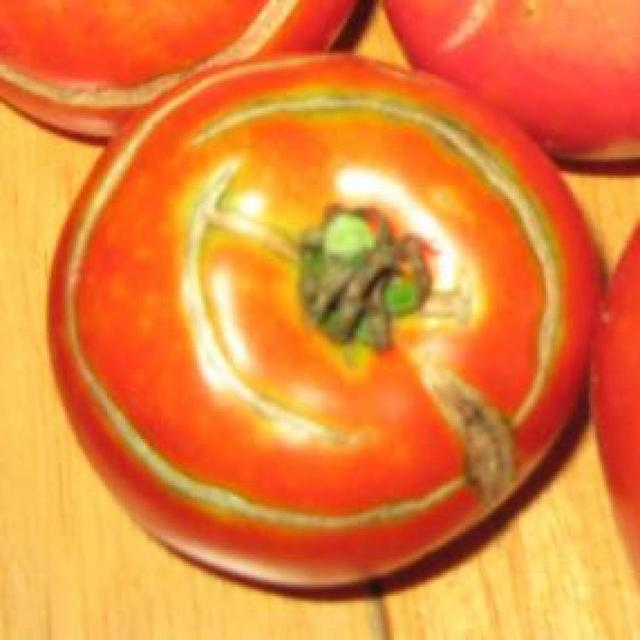Cracking Fruit: (132, 178, 339, 327)
